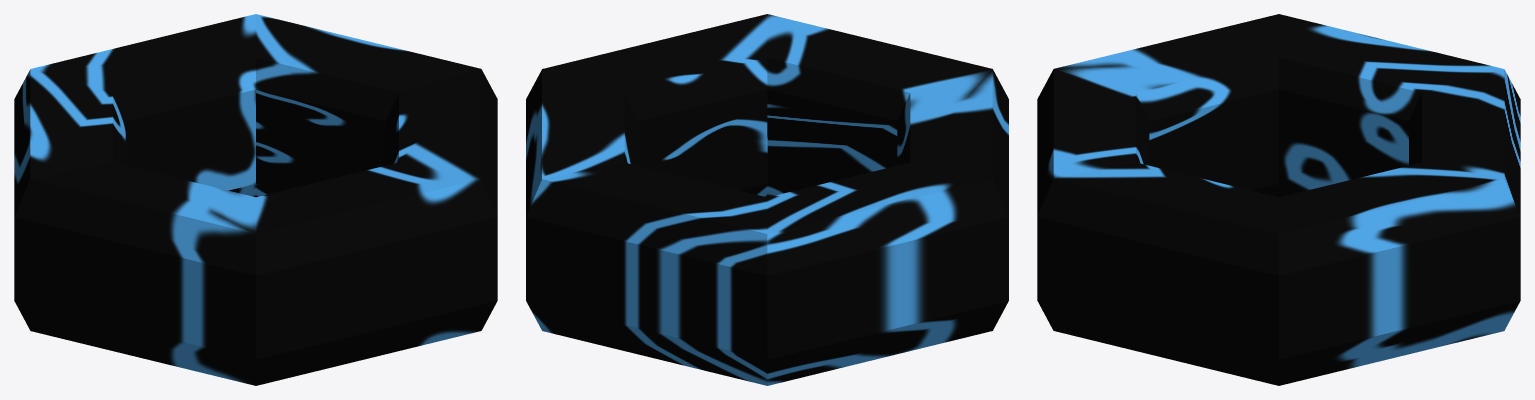
The model's file is Nut.fbx.
3 views of the same model, side by side, from view 1: azimuth 30°, elevation 25°; view 2: azimuth 150°, elevation 25°; view 3: azimuth 270°, elevation 25° (orthographic).
Parts seen in each view (by area): view 1: Nut; view 2: Nut; view 3: Nut.
Part boxes in pixels (x1,y1,x2,y2): Nut: (14,14,497,385); Nut: (526,14,1008,385); Nut: (1037,14,1520,385).
Size of the model in its own units: 46.68 by 155 by 134.
Materials: 1 (1 with a texture image).
